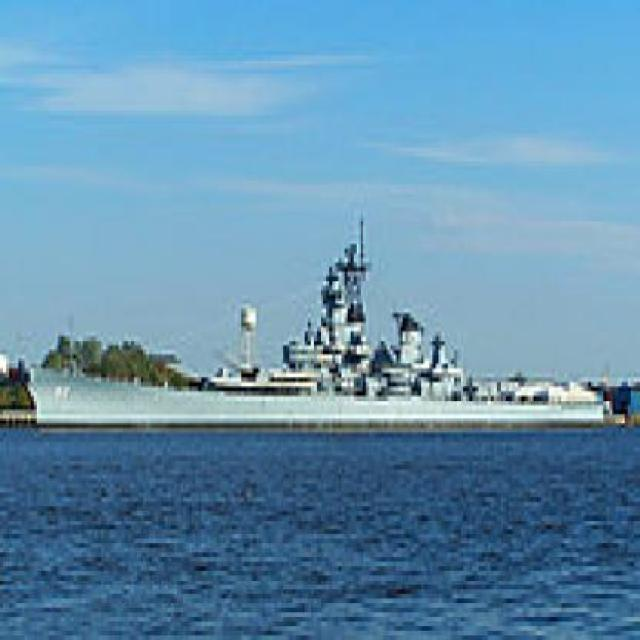warship2: (26, 190, 604, 439)
